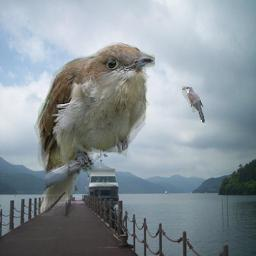Cuckoo: (34, 42, 155, 216), (182, 86, 205, 123)
